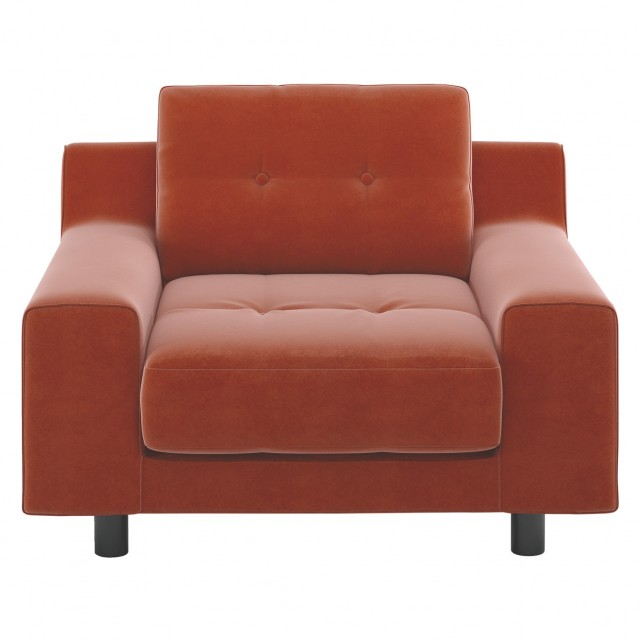chairs: (23, 76, 623, 563)
